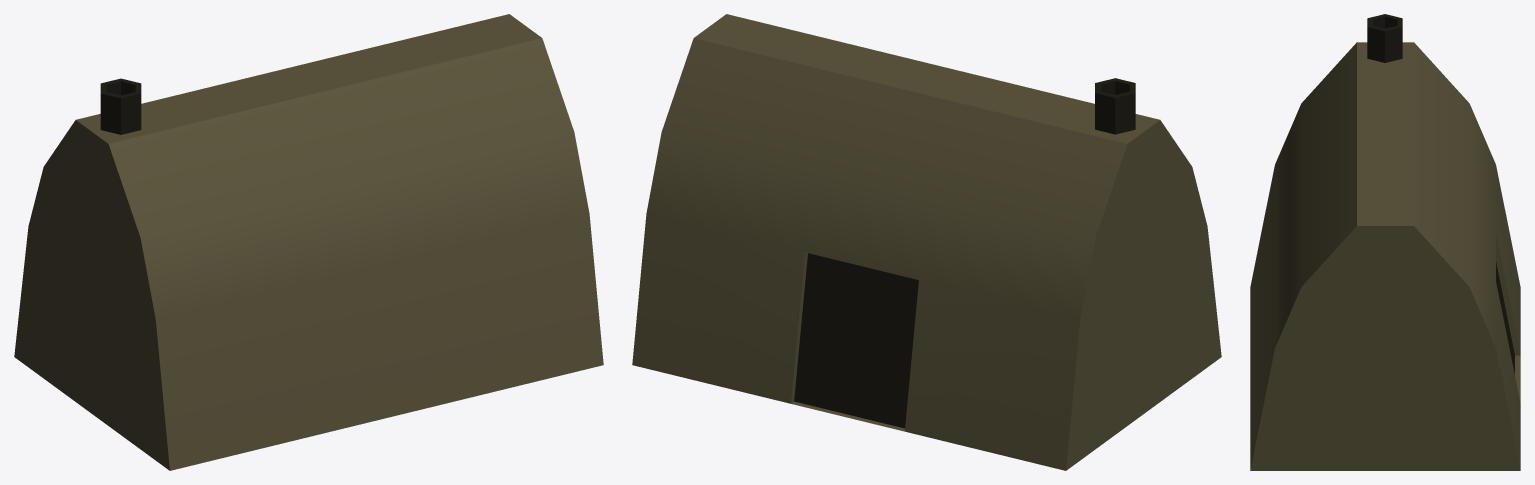
File: House_big_v3.fbx
The picture shows the model from 3 angles, left to right: view 1: azimuth 30°, elevation 25°; view 2: azimuth 150°, elevation 25°; view 3: azimuth 270°, elevation 25°; orthographic projection. The views are drawn at different scales.
Visible parts, largest first — view 1: MainHouse; view 2: MainHouse; view 3: MainHouse.
Part boxes in pixels (box(x1,y1,x2,y2)): MainHouse: box(14, 14, 603, 470); MainHouse: box(632, 14, 1221, 470); MainHouse: box(1250, 14, 1520, 470).
Size of the model in its own units: 7.99 by 5.61 by 4.96.
